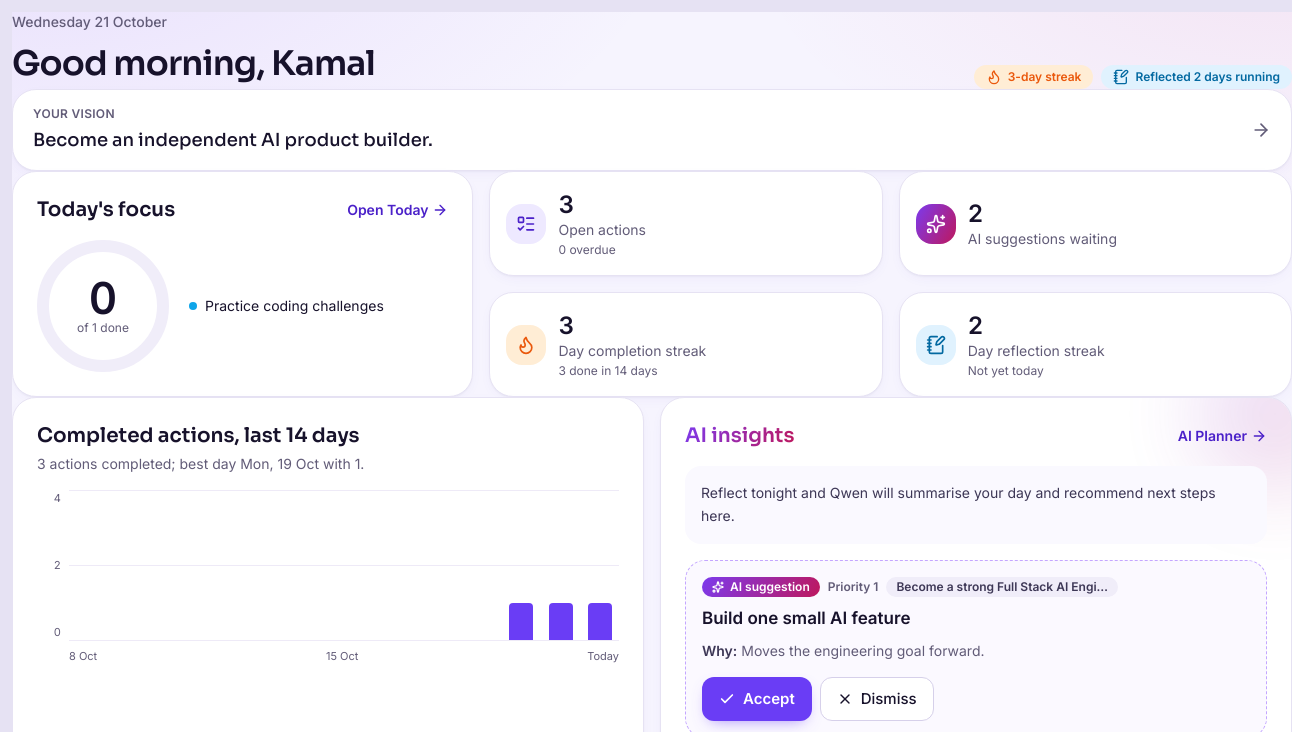
Test: Dashboard › accepts an AI suggestion from the insights card
Step 1. Click the button with aria-label "Accept: Build one small AI feature" → coordinates (757, 699), box [702,677,812,721]
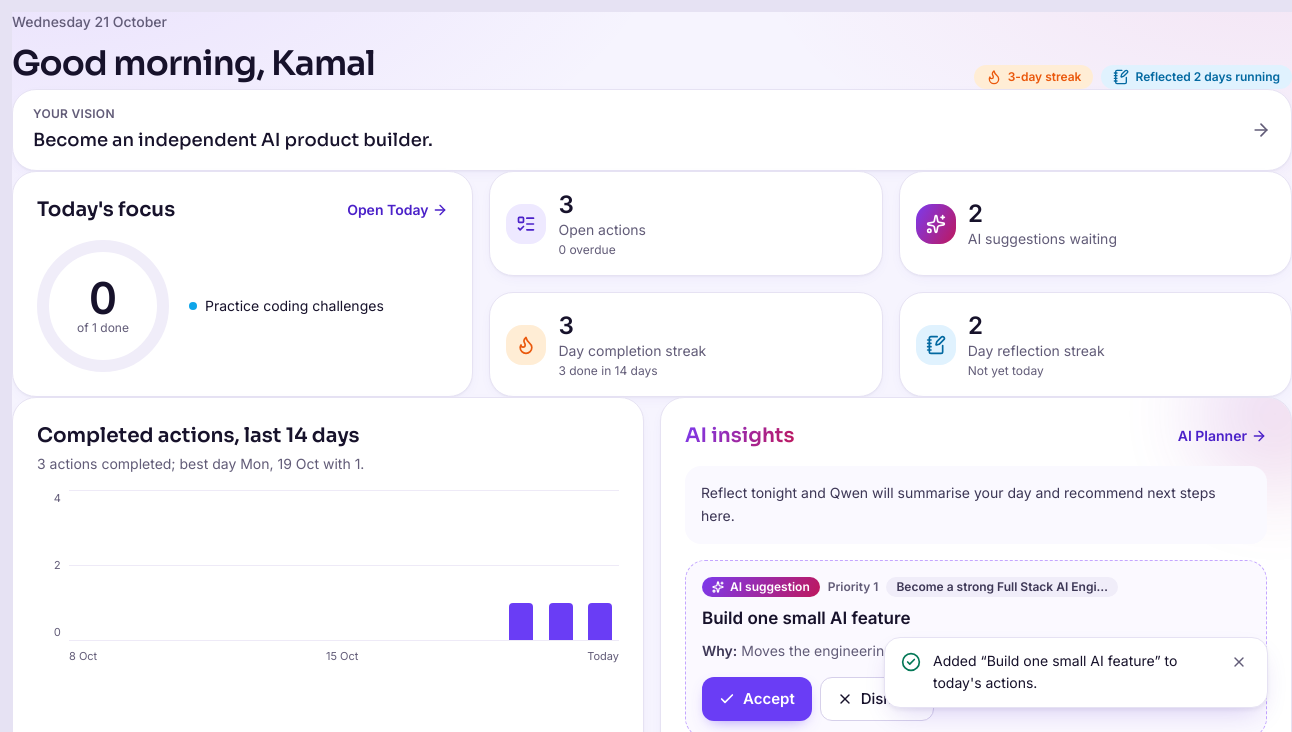
Result: the text "Added “Build one small AI feature” to today's actions." is shown at [933,650,1215,695]
